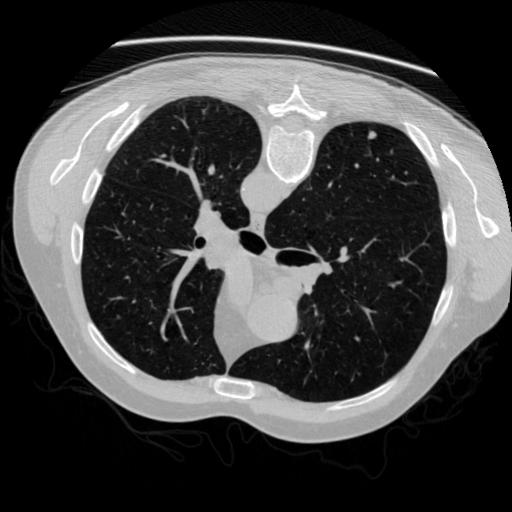nodule: (366, 130, 380, 144)
